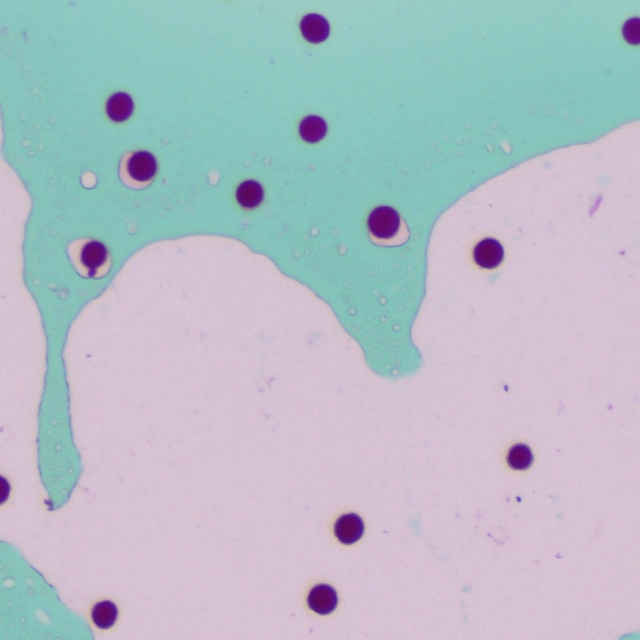viable: (368, 206, 409, 247), (67, 239, 110, 278), (119, 151, 157, 189), (474, 239, 503, 268), (308, 585, 337, 614), (301, 14, 329, 43), (335, 514, 363, 543), (107, 93, 133, 122), (237, 180, 263, 209), (300, 116, 327, 143), (92, 601, 117, 628), (507, 444, 532, 469), (623, 18, 639, 44)
